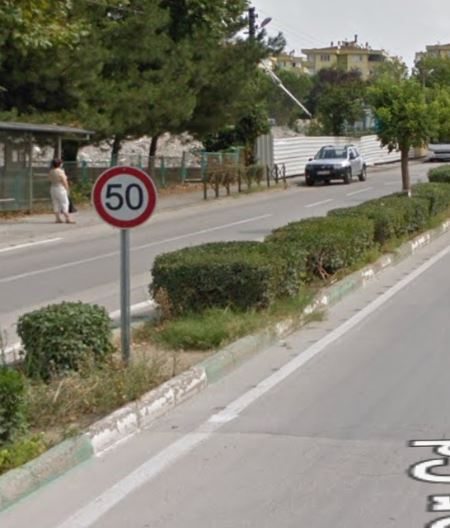50 Km Hiz Siniri: (86, 163, 158, 230)
